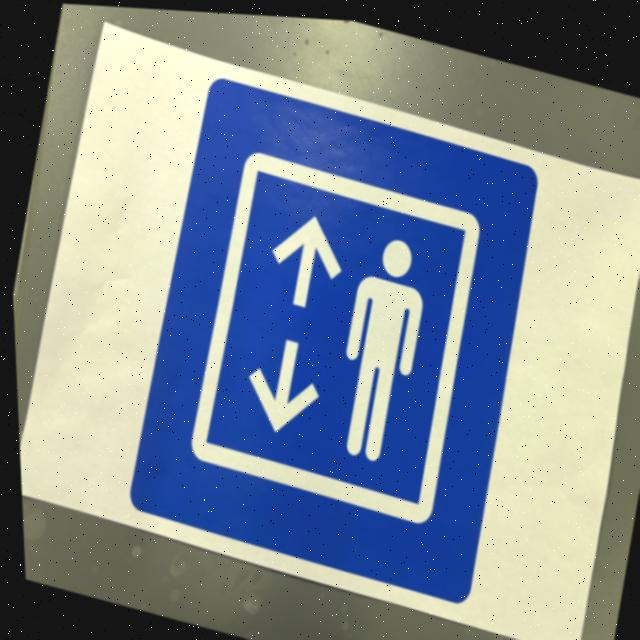elevator: (128, 76, 545, 606)
